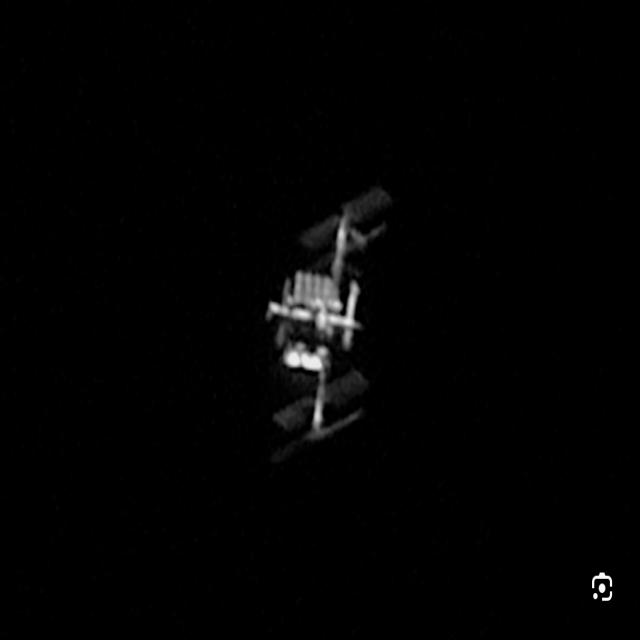satellite: (266, 186, 392, 463)
